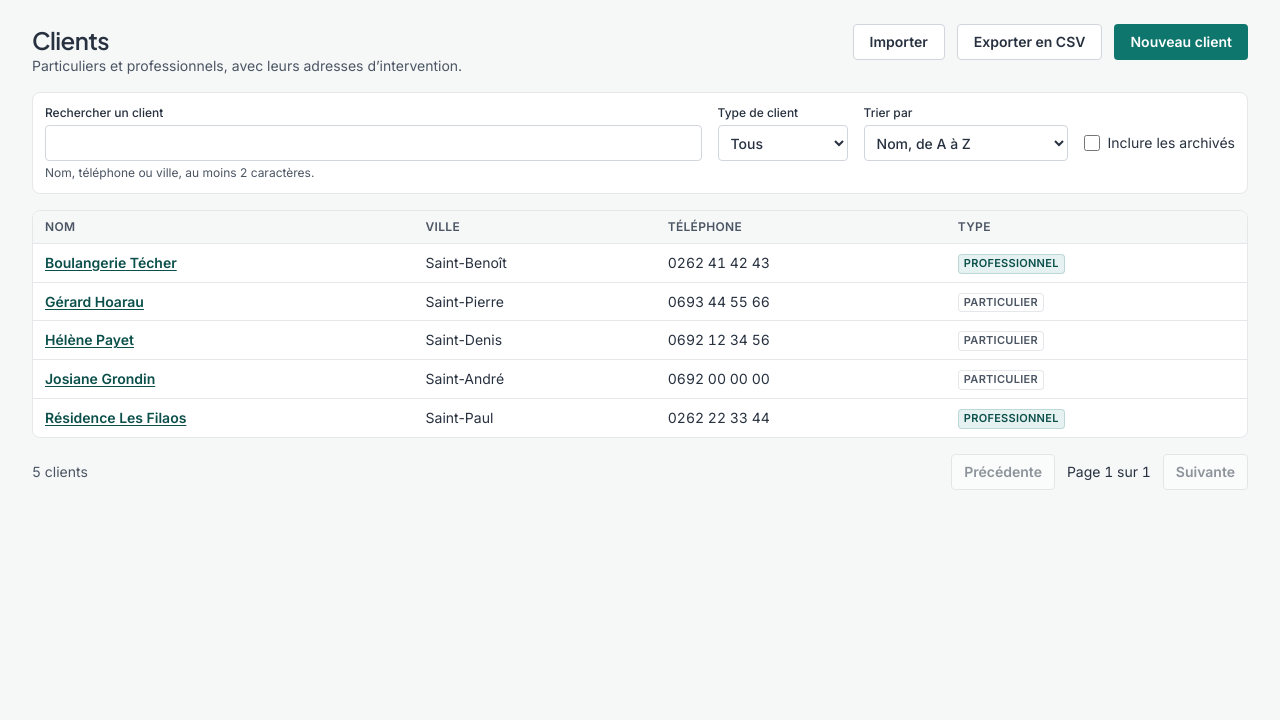
it: export des clients en CSV (US32) › US32 : sans filtre, n’envoie que le tri par défaut
The image size is (1280, 720).
Check: the link "Hélène Payet" is shown, box top-left (45, 331), bottom-right (134, 348)
Click the button "Exporter en CSV" at (1030, 42), box top-left (957, 24), bottom-right (1102, 60)
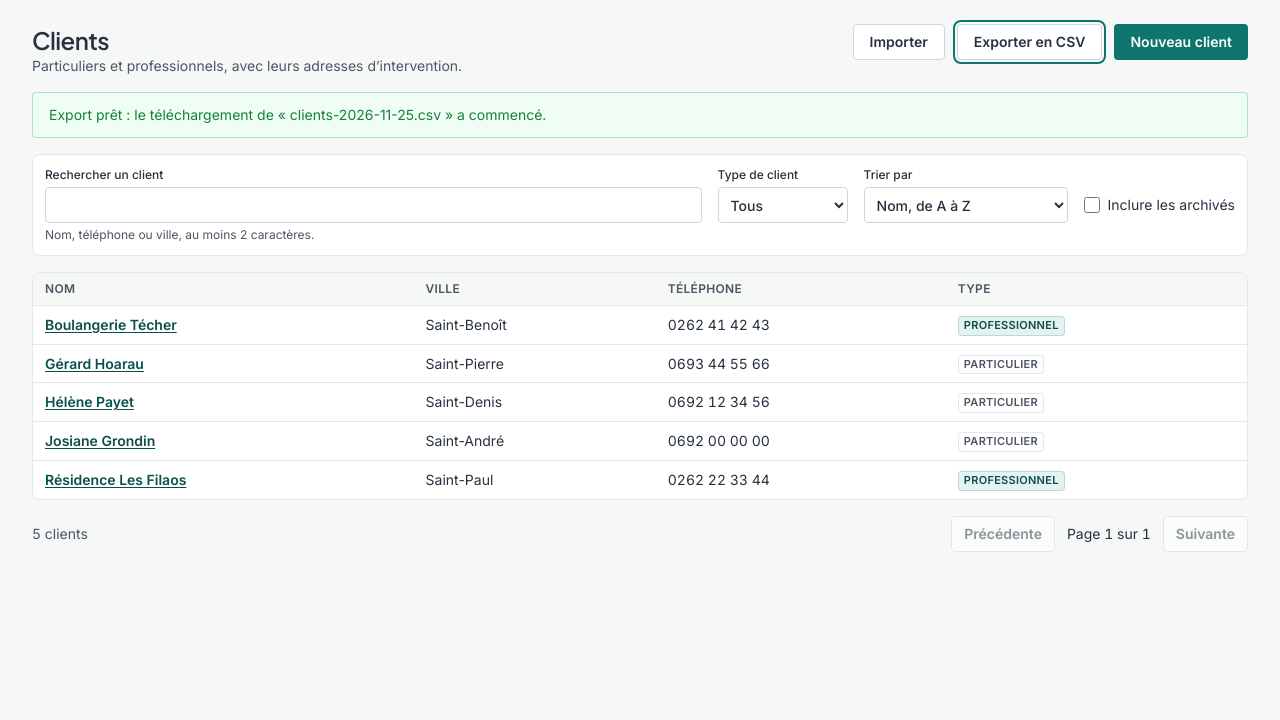
Check: the text "Export prêt" is shown, box top-left (49, 106), bottom-right (546, 123)
